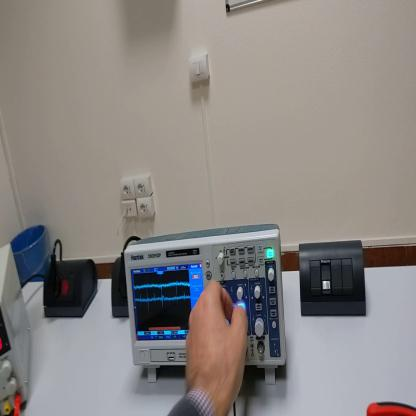hand: (184, 278, 249, 415)
oscilloscope: (123, 224, 287, 387)
pliers: (368, 401, 415, 416)
power supply: (1, 243, 32, 414)
socket: (44, 255, 100, 318), (111, 257, 130, 321)
